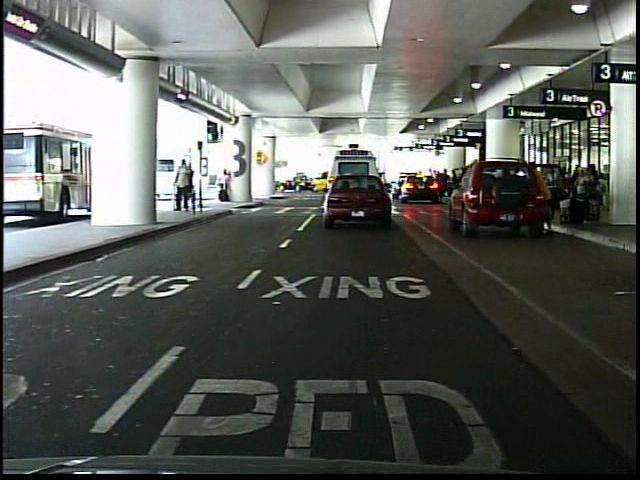person: (528, 158, 557, 230), (171, 157, 190, 214), (218, 167, 238, 205), (186, 162, 201, 210)
